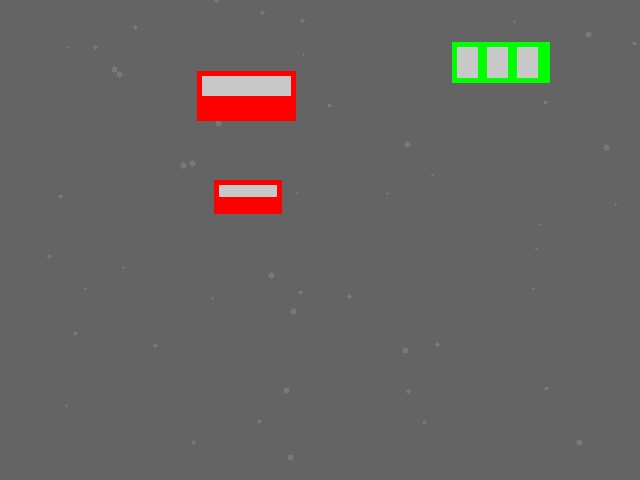bus: (452, 42, 549, 82)
car: (197, 71, 295, 120), (214, 180, 281, 213)
